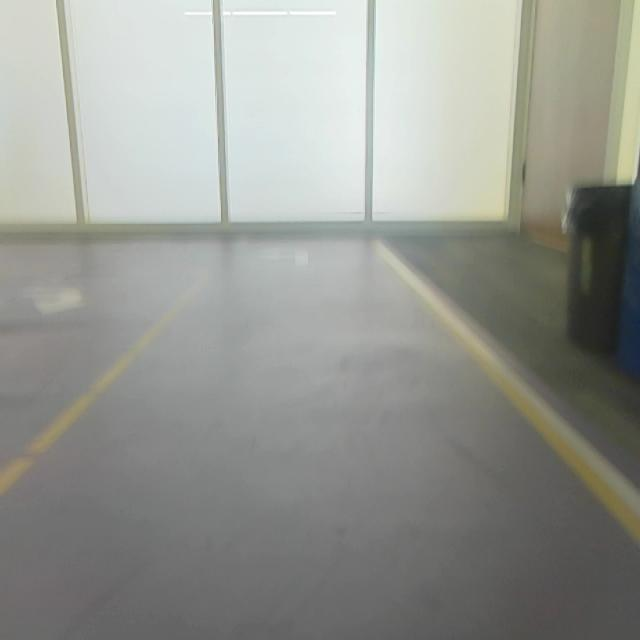left_lane: (0, 274, 208, 497)
right_lane: (378, 246, 640, 543)
